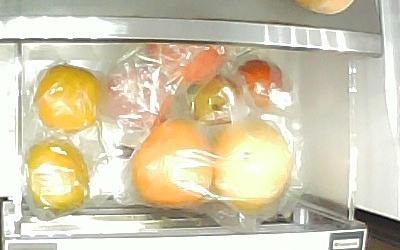apple_vinyl: (103, 67, 173, 127), (149, 45, 224, 85)
grapefruit_vinyl: (132, 121, 214, 210), (213, 123, 293, 209)
persimmon_vinyl: (34, 63, 101, 132), (25, 139, 89, 211)
prune_vinyl: (193, 75, 242, 125), (236, 60, 283, 108)
